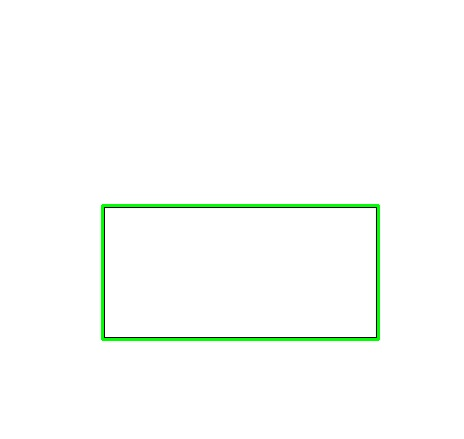line_segment: (101, 204, 380, 341)
